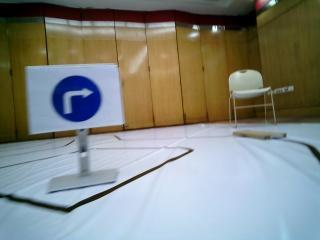right: (33, 71, 113, 124)
